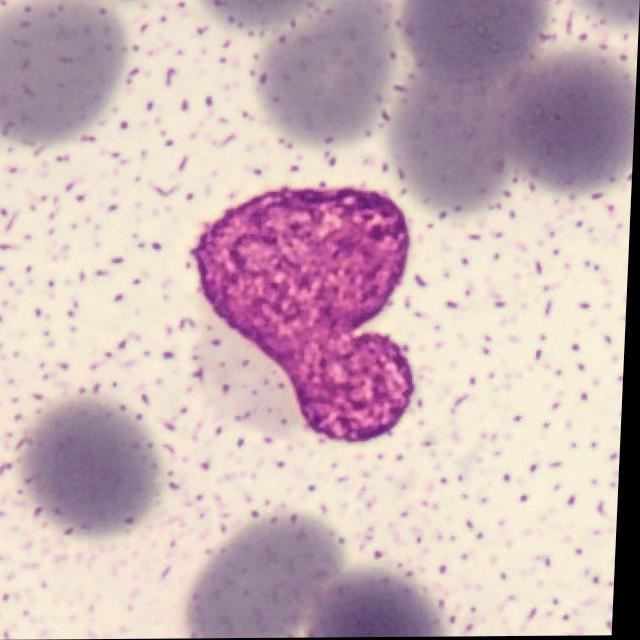Restos celulares: (191, 189, 420, 446)
